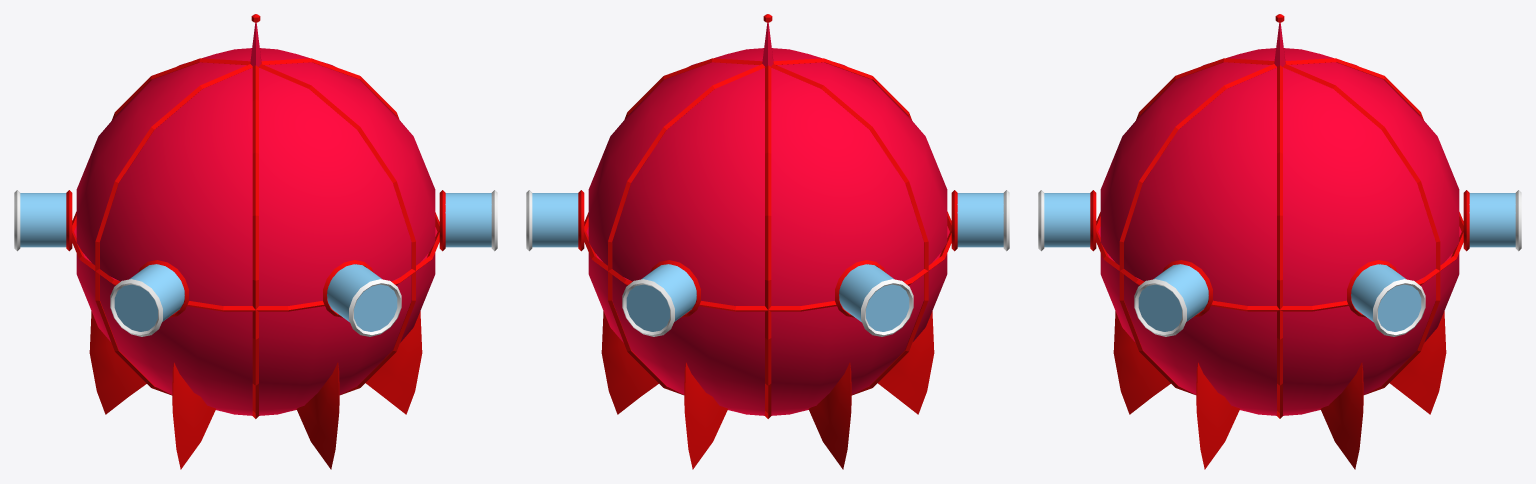
File: B_Maison.fbx
The picture shows the model from 3 angles, left to right: view 1: azimuth 30°, elevation 25°; view 2: azimuth 150°, elevation 25°; view 3: azimuth 270°, elevation 25°; orthographic projection.
Visible parts, largest first — view 1: M_Maison, Connexion (×4); view 2: M_Maison, Connexion (×4); view 3: M_Maison, Connexion (×4).
Part boxes in pixels (left/top/right/bottom): M_Maison: left=66, top=14, right=445, bottom=469; Connexion (×4): left=14, top=190, right=497, bottom=336; M_Maison: left=578, top=14, right=957, bottom=469; Connexion (×4): left=526, top=190, right=1009, bottom=336; M_Maison: left=1090, top=14, right=1469, bottom=469; Connexion (×4): left=1038, top=190, right=1521, bottom=336.
Bounding box in the file's own units: 724 × 718 × 785.
